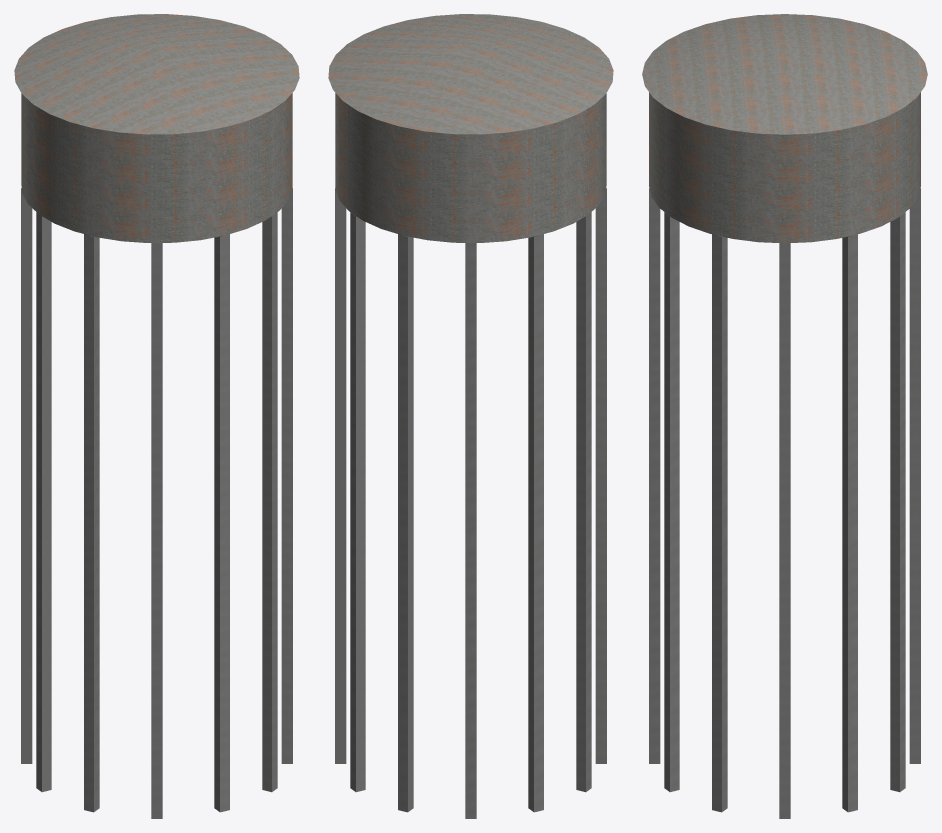
Rendered from water-tower-steel-legs-24x12-cbj_LOD01.gltf.
3 views of the same model, side by side, from view 1: azimuth 30°, elevation 25°; view 2: azimuth 150°, elevation 25°; view 3: azimuth 270°, elevation 25° (orthographic).
Visible parts, largest first — view 1: Cylinder01; view 2: Cylinder01; view 3: Cylinder01.
Part boxes in pixels (x1,y1,x2,y2): Cylinder01: [14, 14, 299, 818]; Cylinder01: [328, 14, 613, 818]; Cylinder01: [642, 14, 927, 818].
Size of the model in its own units: 12.6 by 34.69 by 12.6.
